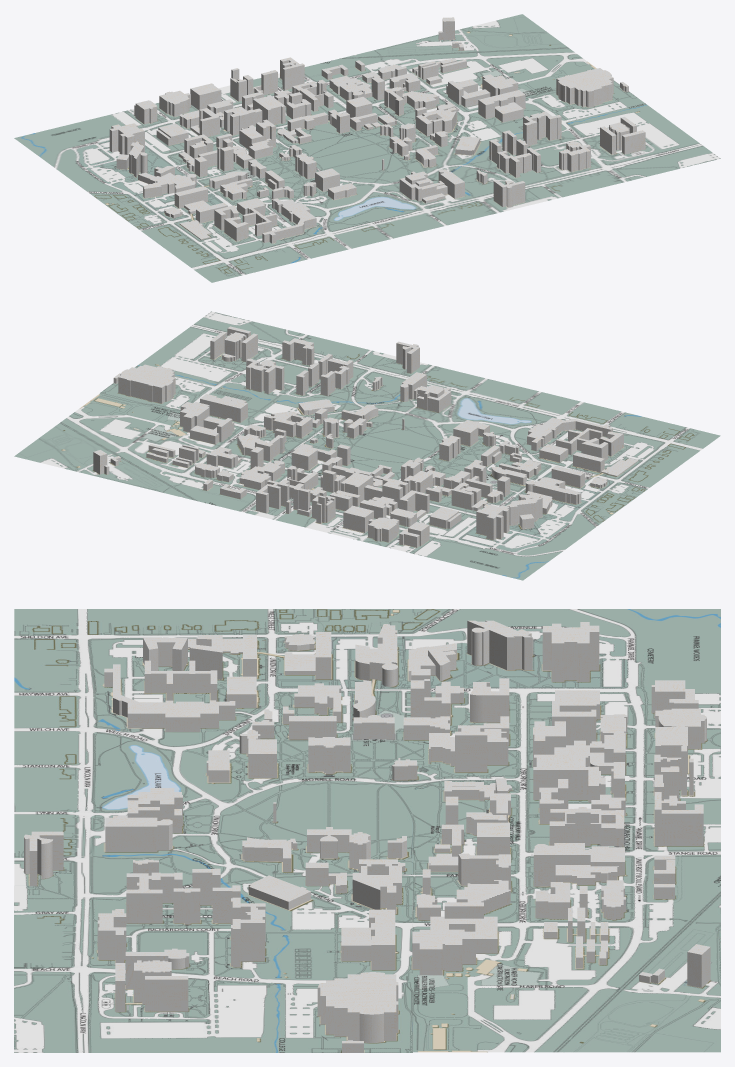
Rendered from CampusMap - Copy.fbx.
3 renders of one model, top to bottom at view 1: azimuth 30°, elevation 25°; view 2: azimuth 150°, elevation 25°; view 3: azimuth 270°, elevation 25°, orthographic. The views are drawn at different scales.
Visible parts, largest first — view 1: image_7, image_23, image_0, image_4, Gillman Hall and Physics Hall and Office/lab and Spedding + , Lied Recreation Athletic Facility, Friley Residence Hall, Forker Building, Memorial Union, Parks Library, Oak Elm Residence Hall, Meats lab and Kildee Hall and Iowa Farm Bureau Pavilion (+33 smaller); view 2: image_7, image_0, image_23, image_4, Gillman Hall and Physics Hall and Office/lab and Spedding + , Lied Recreation Athletic Facility, Friley Residence Hall, Meats lab and Kildee Hall and Iowa Farm Bureau Pavilion, Oak Elm Residence Hall, Town Engineering Building, Food Sciences Building, Parks Library (+31 smaller); view 3: image_7, image_23, image_0, image_4, Gillman Hall and Physics Hall and Office/lab and Spedding + , Lied Recreation Athletic Facility, Friley Residence Hall, Meats lab and Kildee Hall and Iowa Farm Bureau Pavilion, Town Engineering Building, Parks Library, College of Design, Agronomy Hall (+51 smaller).
Part boxes in pixels (x1,y1,x2,y2): image_7: (100,124,528,282); image_23: (432,80,720,205); image_0: (14,60,415,201); image_4: (332,14,596,121); Gillman Hall and Physics Hall and Office/lab and Spedding + : (207,95,285,135); Lied Recreation Athletic Facility: (556,68,613,107); Friley Residence Hall: (262,198,316,243); Forker Building: (478,90,525,122); Memorial Union: (399,171,447,203); Parks Library: (239,119,275,158); Oak Elm Residence Hall: (523,111,561,146); Meats lab and Kildee Hall and Iowa Farm Bureau Pavilion: (329,75,384,100); image_7: (292,362,720,517); image_0: (205,440,608,580); image_23: (100,311,396,439); image_4: (14,393,290,502); Gillman Hall and Physics Hall and Office/lab and Spedding + : (335,471,408,518); Lied Recreation Athletic Facility: (118,364,175,403); Friley Residence Hall: (527,417,612,450); Meats lab and Kildee Hall and Iowa Farm Bureau Pavilion: (239,446,284,489); Oak Elm Residence Hall: (246,358,284,393); Town Engineering Building: (476,504,509,539); Food Sciences Building: (264,411,312,438); Parks Library: (401,459,445,492); image_7: (14,609,412,885); image_23: (14,886,412,1052); image_0: (412,609,720,885); image_4: (412,886,720,1052); Gillman Hall and Physics Hall and Office/lab and Spedding + : (533,721,625,802); Lied Recreation Athletic Facility: (317,972,398,1042); Friley Residence Hall: (104,664,235,731); Meats lab and Kildee Hall and Iowa Farm Bureau Pavilion: (533,843,624,886); Town Engineering Building: (542,622,599,681); Parks Library: (429,725,508,772); College of Design: (467,620,532,670); Agronomy Hall: (456,853,510,913).
Size of the model in its own units: 110706 by 5161 by 74514.
